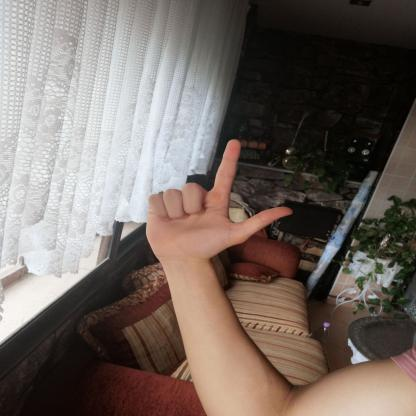LAAM: (135, 132, 302, 269)
